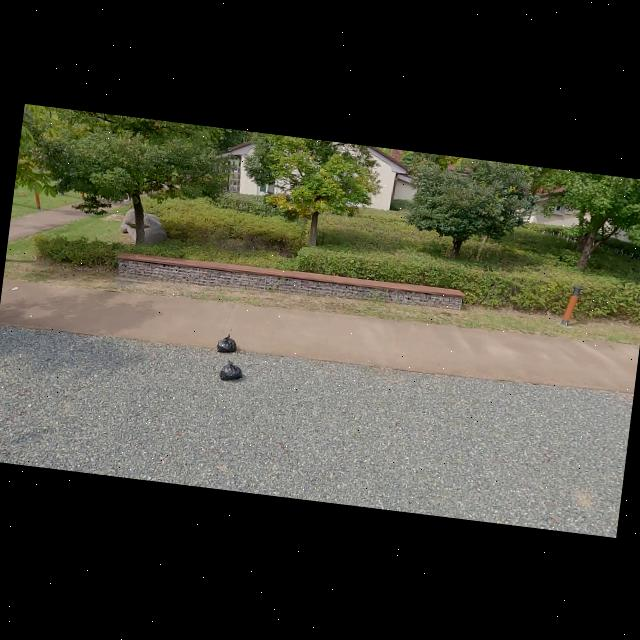trash: (219, 358, 243, 382), (215, 332, 238, 352)
